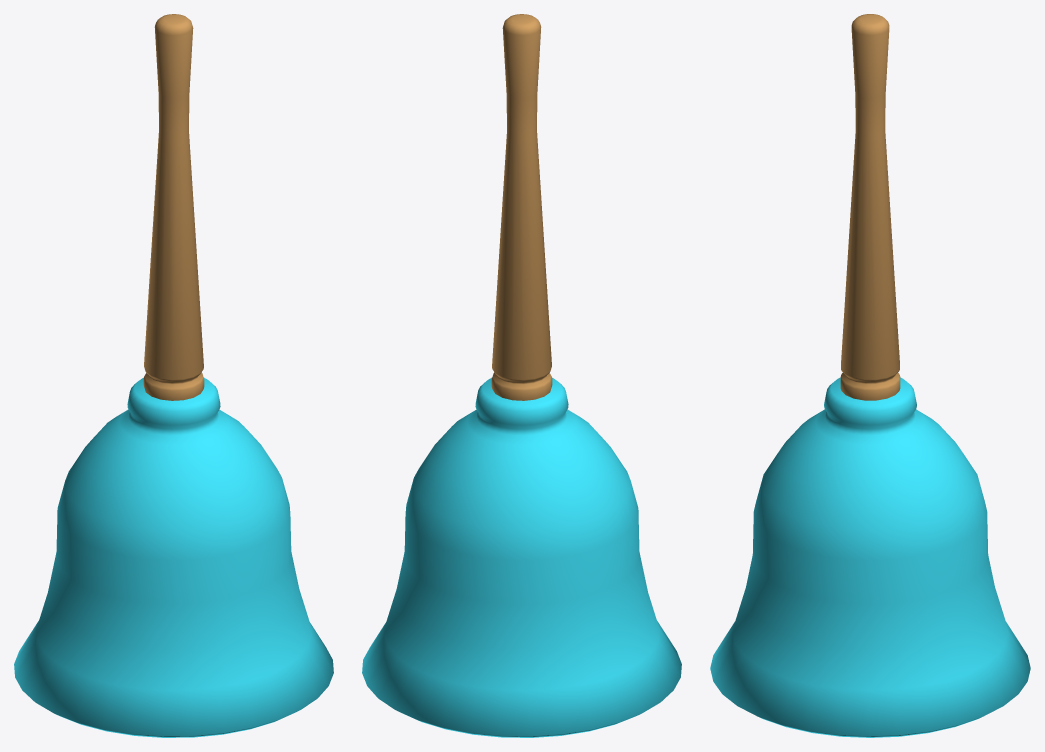
The model's file is Enemy_handbell.fbx.
3 views of the same model, side by side, from view 1: azimuth 30°, elevation 25°; view 2: azimuth 150°, elevation 25°; view 3: azimuth 270°, elevation 25° (orthographic).
Parts seen in each view (by area): view 1: handbell; view 2: handbell; view 3: handbell.
Boxes of the visible parts, x1,y1,x2,y2 form: handbell: [14, 14, 333, 737]; handbell: [362, 14, 681, 737]; handbell: [710, 14, 1030, 737].
Size of the model in its own units: 5.45 by 12.28 by 5.45.
